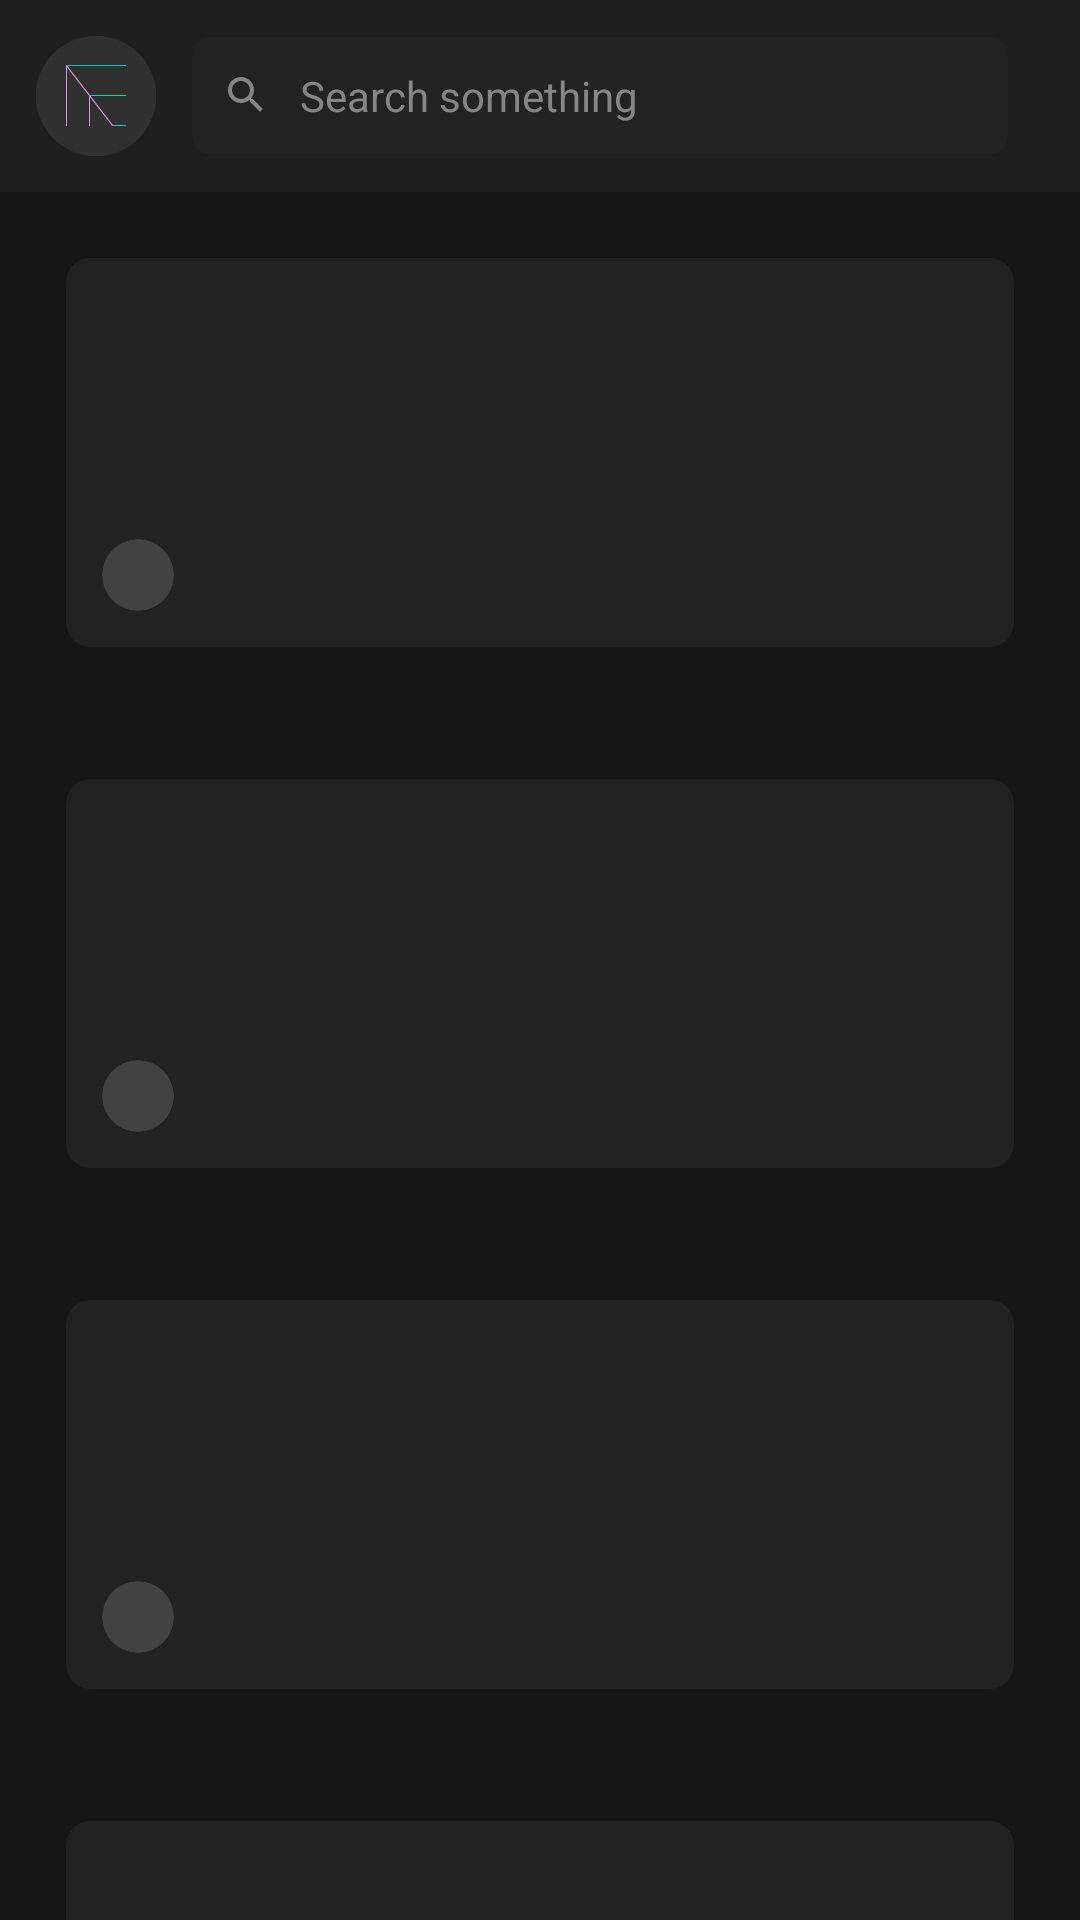

Icons on this 1080px x 1920px Android screen, each with the point to tap as (x,y):
Profile Picture: (96,96)
